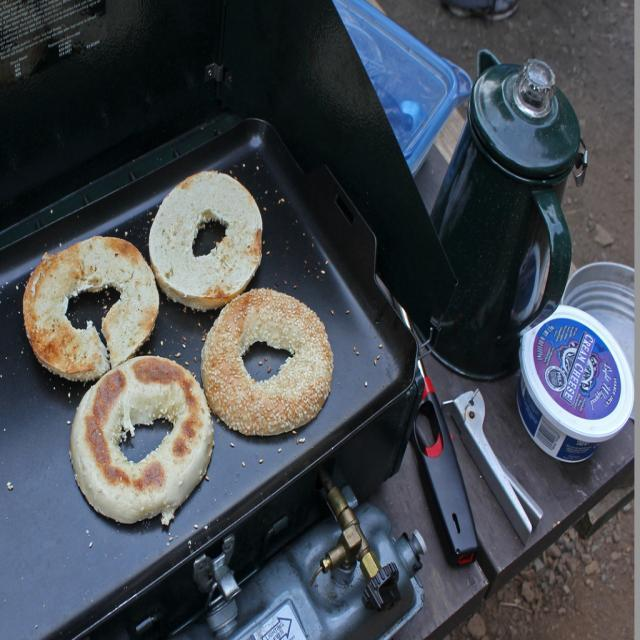Bagel: (69, 353, 214, 527), (20, 234, 161, 380), (202, 288, 334, 441), (144, 170, 264, 312)
